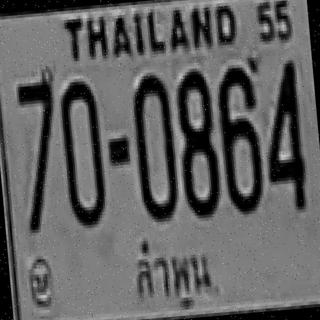N00: (56, 77, 106, 226), (128, 71, 178, 220)
N04: (258, 57, 306, 209)
N06: (213, 64, 263, 213)
N07: (15, 74, 63, 228), (15, 74, 58, 178)
N08: (172, 67, 220, 216)
P21: (126, 228, 221, 315)
